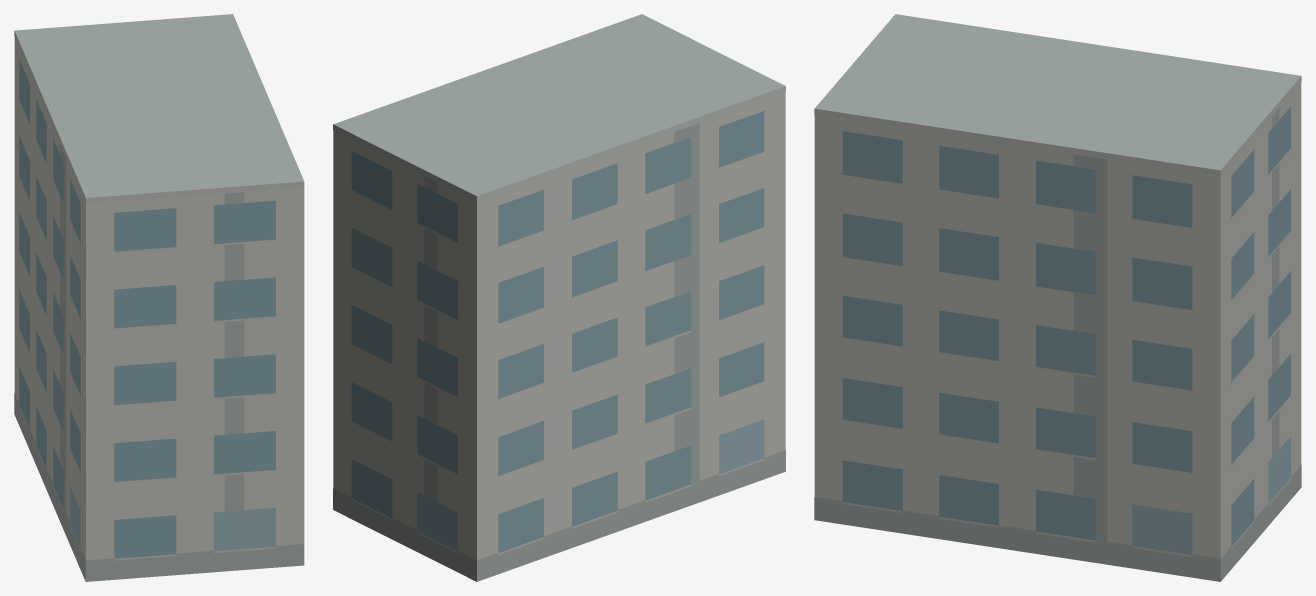
Rendered from residential-6be85b1d-a17d-4923-95bd-3ffcbdaabd1d.glb.
The picture shows the model from 3 angles, left to right: view 1: azimuth 30°, elevation 25°; view 2: azimuth 150°, elevation 25°; view 3: azimuth 270°, elevation 25°; orthographic projection. The views are drawn at different scales.
Visible parts, largest first — view 1: residential-6be85b1d-a17d-4923-95bd-3ffcbdaabd1d.tmp; view 2: residential-6be85b1d-a17d-4923-95bd-3ffcbdaabd1d.tmp; view 3: residential-6be85b1d-a17d-4923-95bd-3ffcbdaabd1d.tmp.
Boxes of the visible parts, x1,y1,x2,y2 form: residential-6be85b1d-a17d-4923-95bd-3ffcbdaabd1d.tmp: (14, 14, 304, 581); residential-6be85b1d-a17d-4923-95bd-3ffcbdaabd1d.tmp: (333, 14, 785, 581); residential-6be85b1d-a17d-4923-95bd-3ffcbdaabd1d.tmp: (814, 14, 1301, 581).
Bounding box in the file's own units: 12.44 × 15.25 × 16.36.
